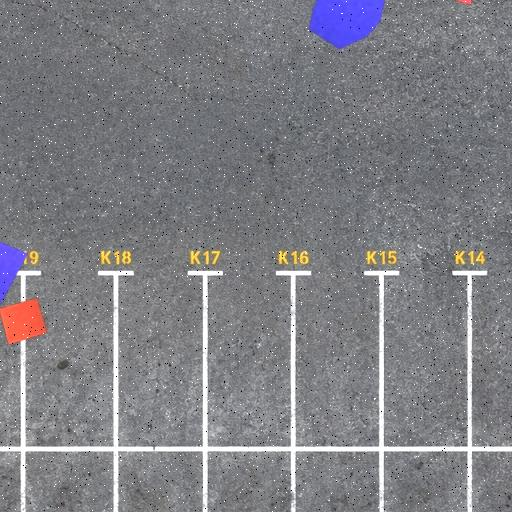RED_SQUARE: (0, 296, 48, 346)
